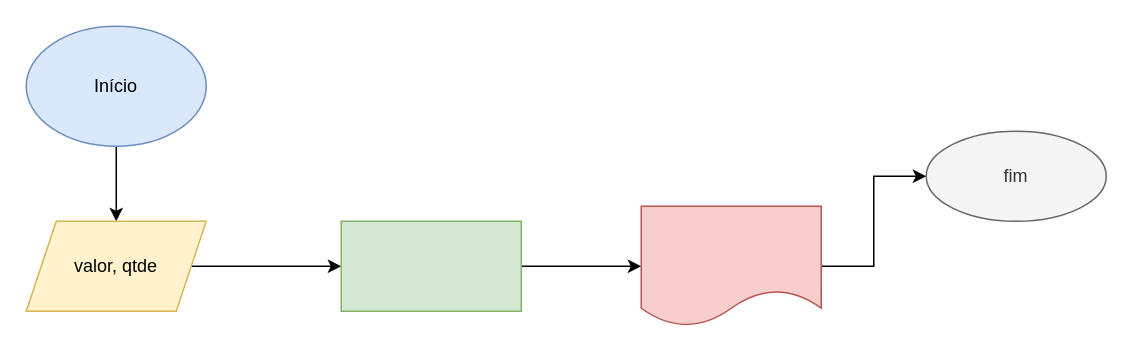
This 1133x353 diagram has some shape labels left out. Here are the shapes that lost their labels. From the top down, the box of each, then its label:
(340, 220, 521, 311): total <-valor*qtde
(640, 205, 821, 326): total
